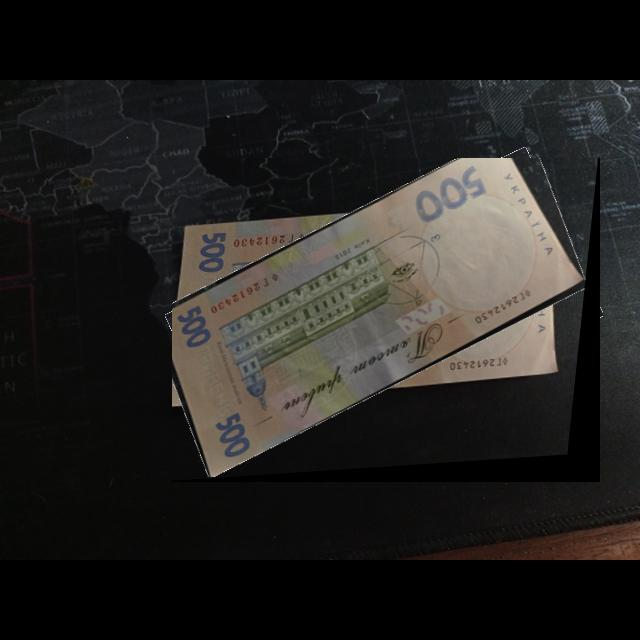500uah: (172, 158, 589, 479)
